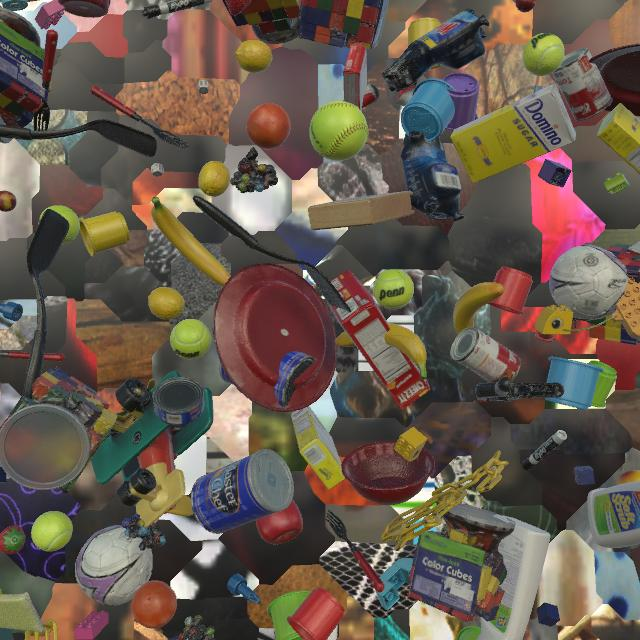ycb_002_master_chef_can: (191, 449, 294, 534), (219, 352, 317, 412), (0, 116, 12, 143)
ycb_003_cracker_box: (327, 270, 431, 410)
ycb_004_sugar_box: (450, 84, 576, 183), (291, 406, 346, 490), (597, 103, 640, 174)
ycb_005_tomato_soup_can: (552, 48, 613, 121), (450, 327, 521, 384)
ycb_007_tuna_fish_can: (153, 377, 204, 426)
ycb_008_pudding_box: (627, 241, 640, 257)
ycb_009_gelatin_box: (343, 44, 367, 111)
ycb_011_banana: (151, 197, 231, 286), (336, 323, 427, 379), (453, 282, 505, 334)
ycb_012_strawberry: (0, 525, 26, 554), (225, 0, 251, 15)
ycb_013_apple: (256, 500, 303, 544)
ycb_014_lemon: (234, 40, 272, 73), (148, 287, 185, 320), (198, 161, 230, 197)
ycb_015_peach: (616, 470, 640, 485)
ycb_017_orange: (131, 581, 177, 629), (246, 103, 291, 149)
